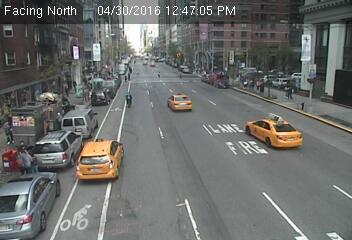neg: (221, 107, 286, 193), (80, 130, 115, 176), (235, 10, 267, 53), (265, 124, 290, 158), (149, 112, 174, 144), (178, 80, 202, 112), (279, 45, 303, 76), (115, 7, 137, 36), (315, 101, 336, 129), (118, 89, 135, 112), (116, 46, 133, 68), (84, 102, 101, 124), (170, 44, 183, 62)
